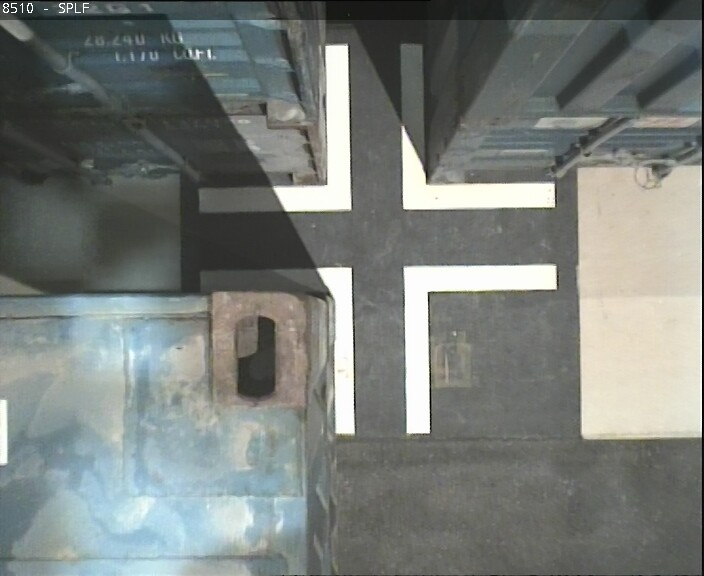groundmarker_1: (197, 265, 560, 433), (193, 45, 556, 213)
